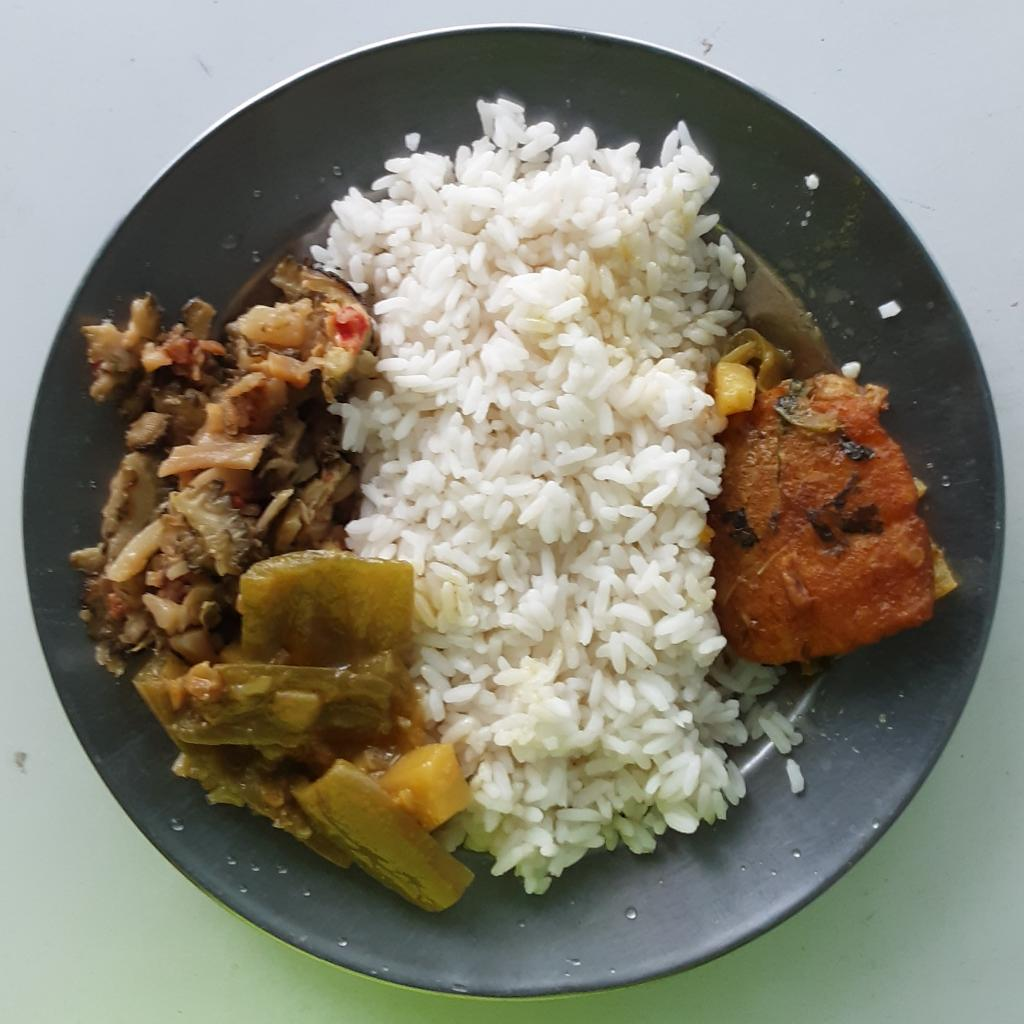dundol: (132, 551, 478, 916)
fish: (707, 368, 956, 667)
korola-vaji: (69, 256, 376, 667)
potato: (100, 350, 317, 580), (374, 747, 478, 827), (711, 325, 779, 419)
rice: (311, 102, 806, 903)
